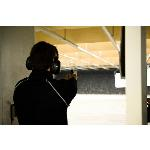Pistol: (70, 69, 78, 75)
